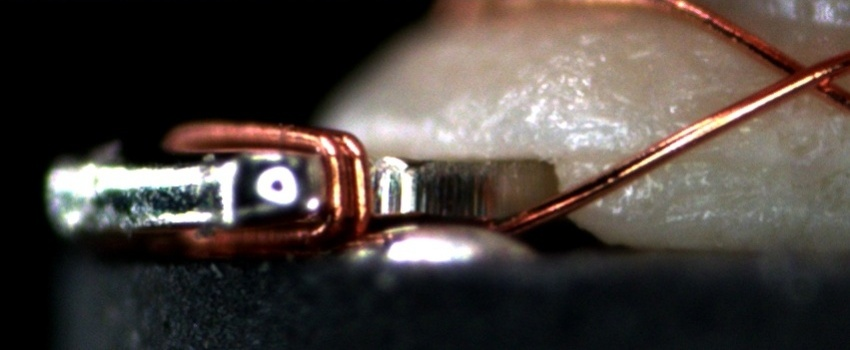CL: (759, 46, 844, 103)
DL: (568, 139, 722, 178)
TE: (165, 117, 374, 257)
